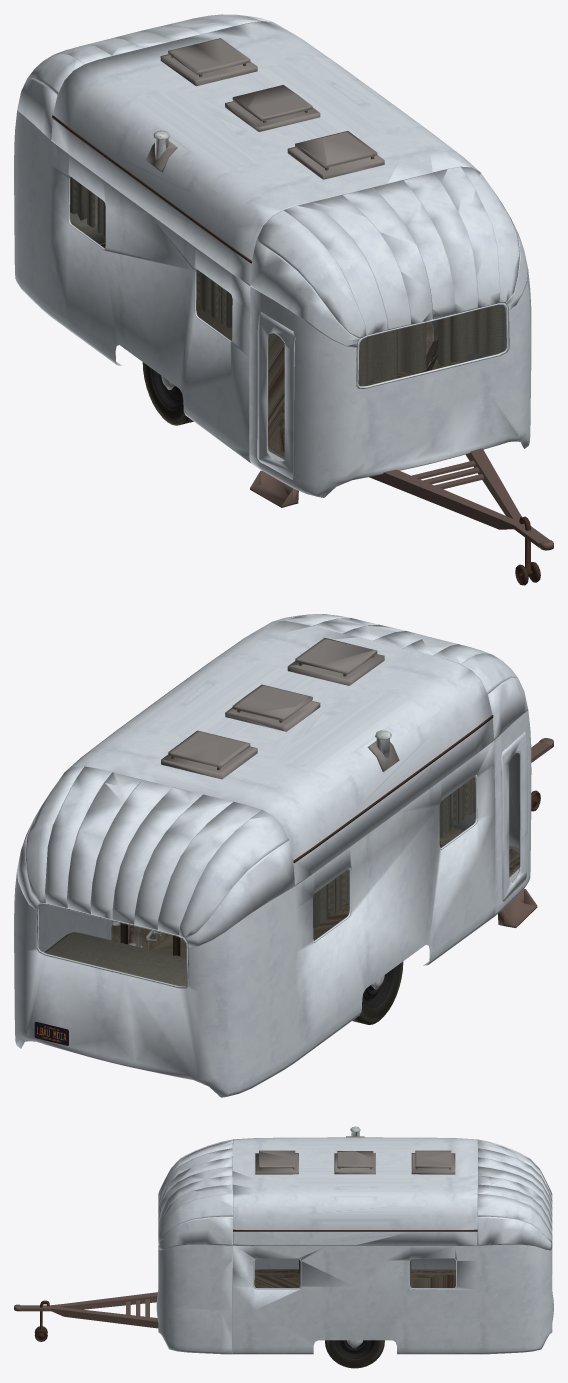
Rendered from p_caravan_50s.glb.
3 views of the same model, one above another, from view 1: azimuth 30°, elevation 25°; view 2: azimuth 150°, elevation 25°; view 3: azimuth 270°, elevation 25° (orthographic). The views are drawn at different scales.
Visible parts, largest first — view 1: body_0, door_4, wheel1_2, stand_3; view 2: body_0, door_4, wheel1_2; view 3: body_0, wheel2_1.
Part boxes in pixels (left/top/right/bottom): body_0: left=14, top=14, right=553, bottom=550; door_4: left=257, top=312, right=295, bottom=479; wheel1_2: left=142, top=362, right=193, bottom=425; stand_3: left=515, top=516, right=540, bottom=585; body_0: left=14, top=614, right=553, bottom=1097; door_4: left=501, top=731, right=527, bottom=901; wheel1_2: left=352, top=961, right=403, bottom=1024; body_0: left=14, top=1126, right=553, bottom=1354; wheel2_1: left=325, top=1340, right=384, bottom=1368.
Bounding box in the file's own units: 2.33 × 2.56 × 6.9.
12 materials, 7 textured.
